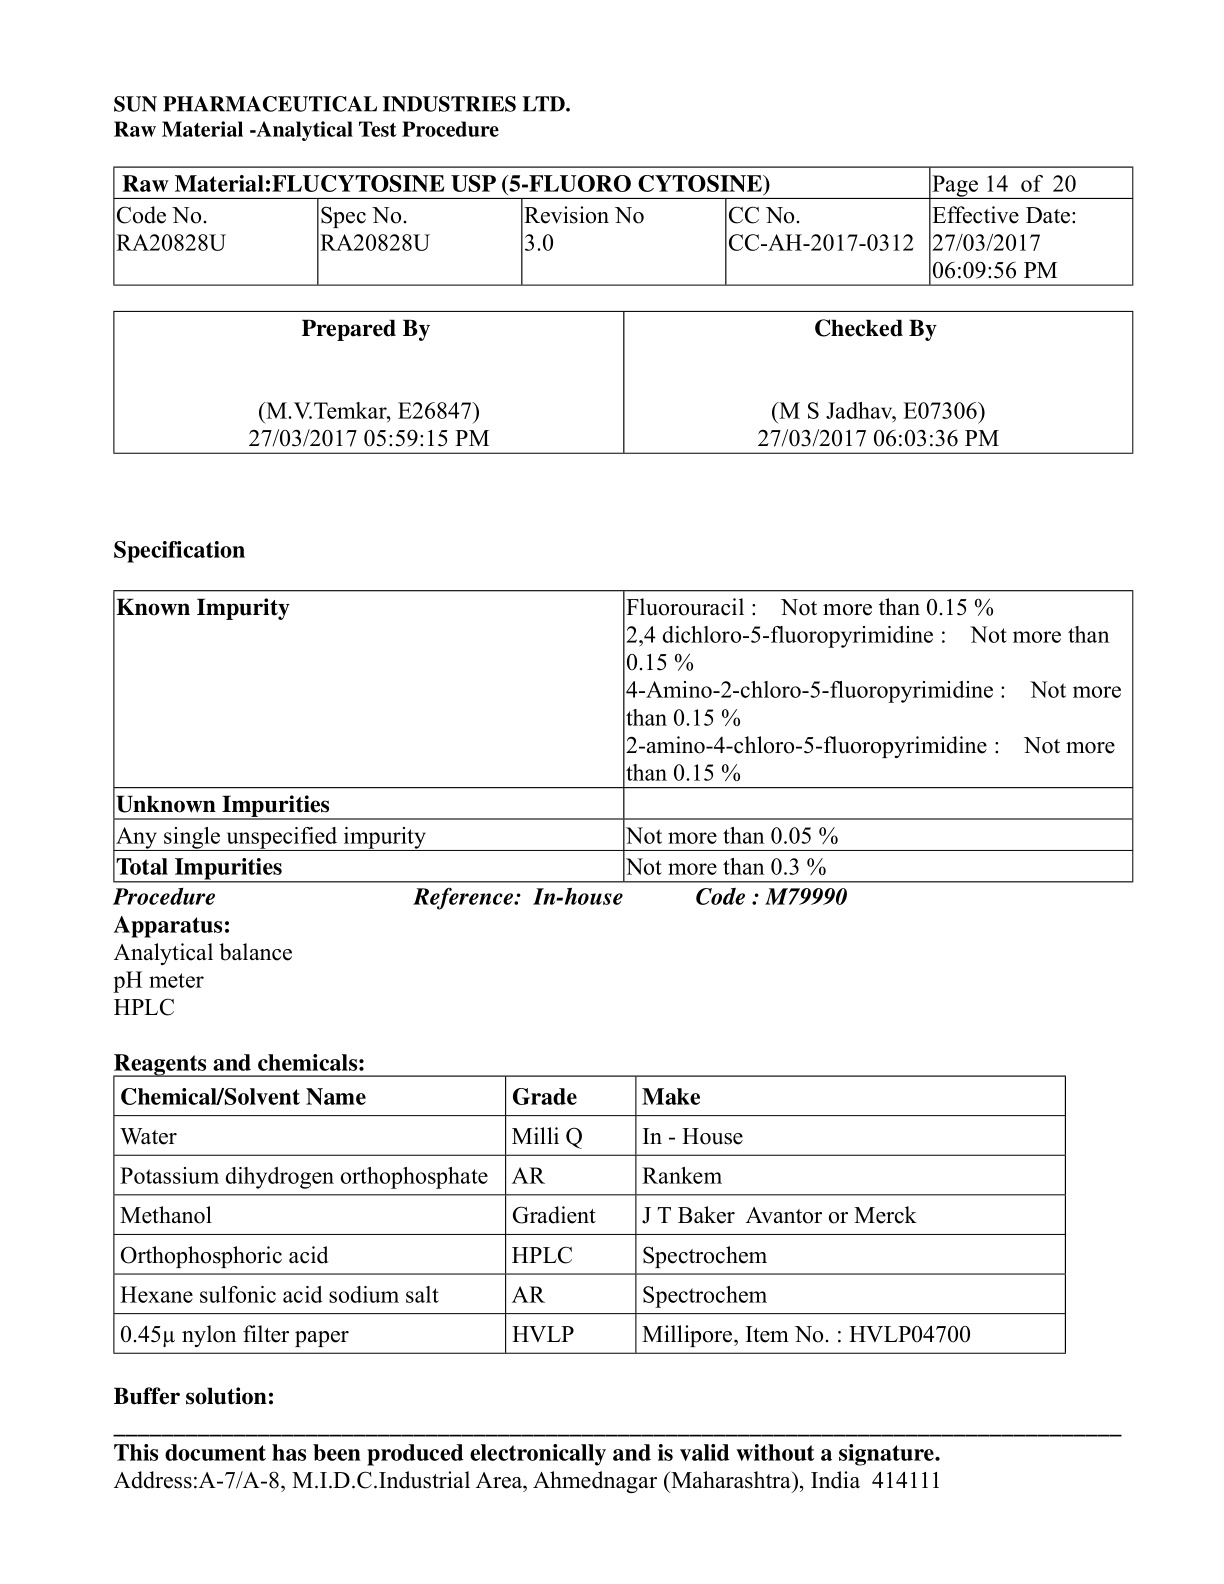full_lined: (113, 590, 1135, 885), (111, 1074, 1067, 1355), (112, 310, 1135, 455)
merged_cells: (113, 166, 1134, 287)
